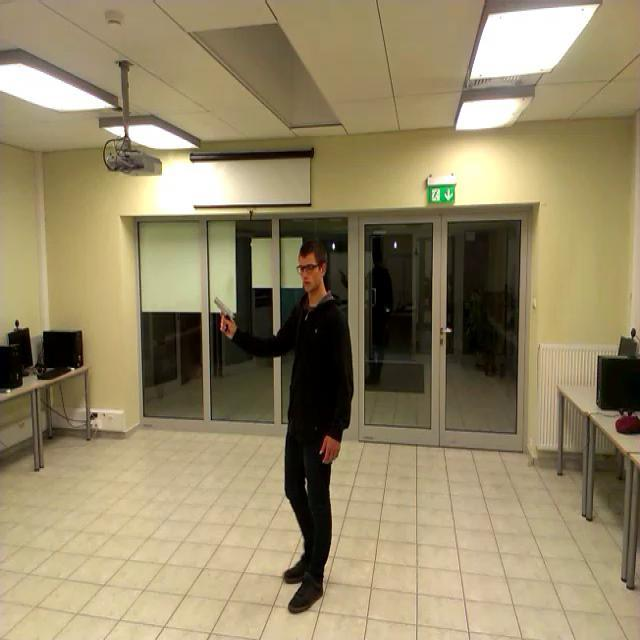Gun: (213, 296, 233, 331)
